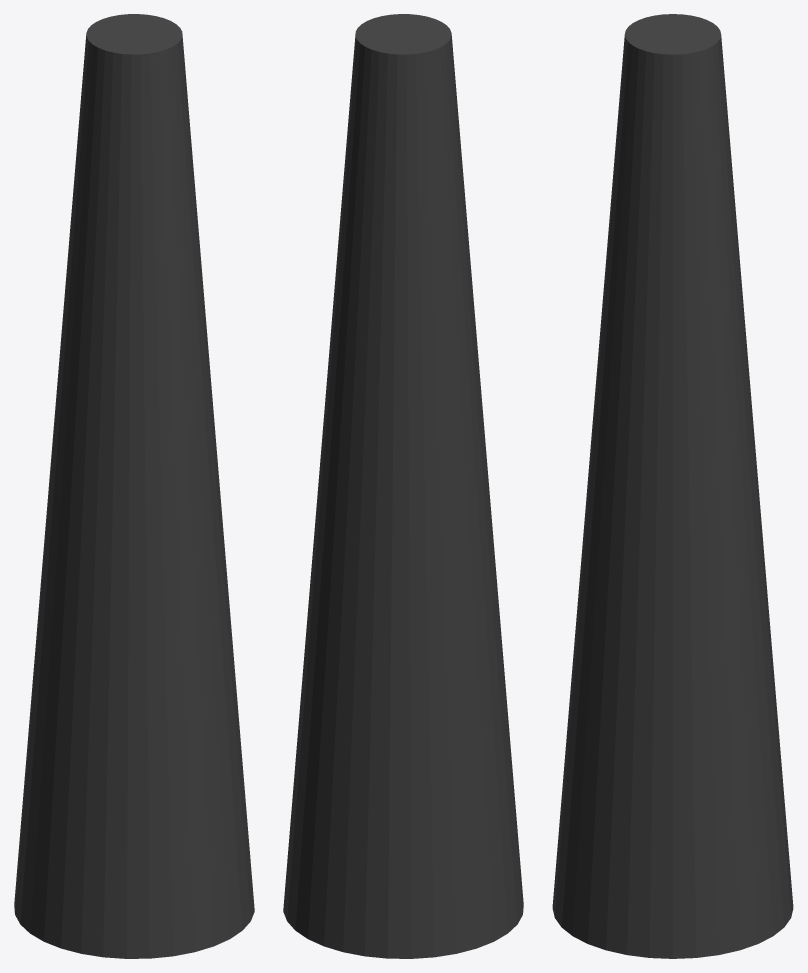
The model's file is Arm_Joint.fbx.
3 views of the same model, side by side, from view 1: azimuth 30°, elevation 25°; view 2: azimuth 150°, elevation 25°; view 3: azimuth 270°, elevation 25° (orthographic).
Parts seen in each view (by area): view 1: Cylinder; view 2: Cylinder; view 3: Cylinder.
Boxes of the visible parts, box(x1,y1,x2,y2) form: Cylinder: box(14, 14, 254, 958); Cylinder: box(283, 14, 523, 958); Cylinder: box(552, 14, 793, 958).
Bounding box in the file's own units: 200 × 800 × 200.
Materials: 1 (1 with a texture image).
